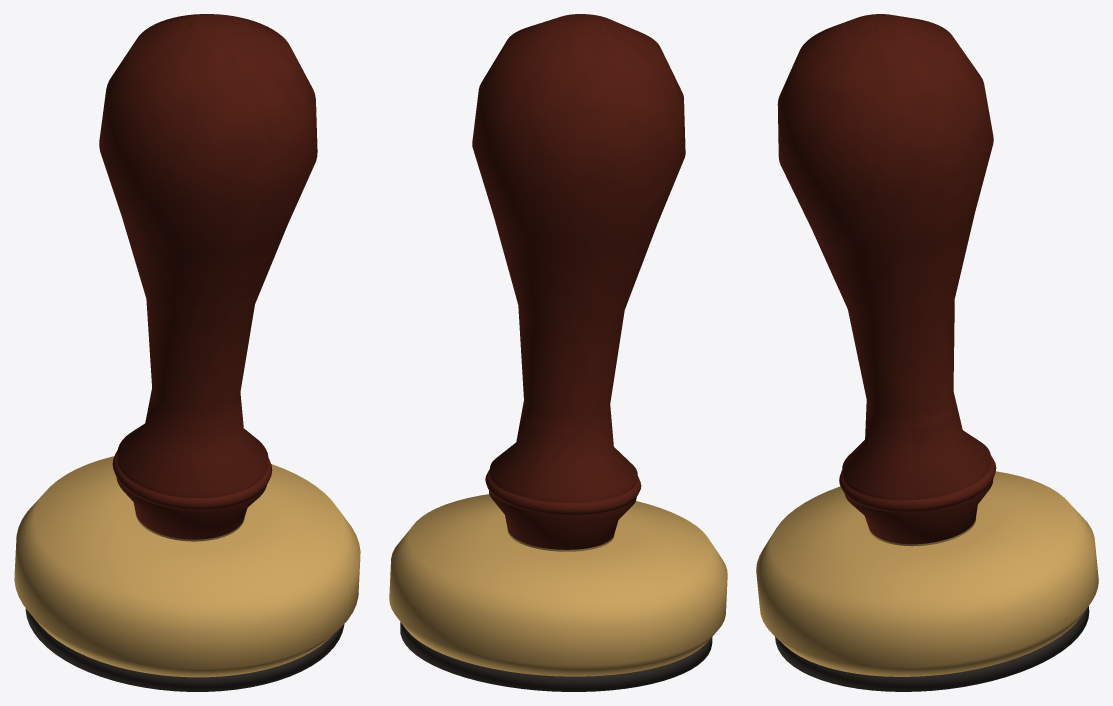
The model's file is municipality_stamp-default.glb.
3 renders of one model, left to right at view 1: azimuth 30°, elevation 25°; view 2: azimuth 150°, elevation 25°; view 3: azimuth 270°, elevation 25°, orthographic. The views are drawn at different scales.
Parts seen in each view (by area): view 1: municipality_stamp-default__Polished_red_wooden_stamp_handle, municipality_stamp-default__Brass_aged_warm_metal, Stamp rubber printing pad; view 2: municipality_stamp-default__Polished_red_wooden_stamp_handle, municipality_stamp-default__Brass_aged_warm_metal, Stamp rubber printing pad; view 3: municipality_stamp-default__Polished_red_wooden_stamp_handle, municipality_stamp-default__Brass_aged_warm_metal, Stamp rubber printing pad.
Part boxes in pixels (x1,y1,x2,y2): municipality_stamp-default__Polished_red_wooden_stamp_handle: (99,14,317,539); municipality_stamp-default__Brass_aged_warm_metal: (14,456,360,677); Stamp rubber printing pad: (25,608,344,691); municipality_stamp-default__Polished_red_wooden_stamp_handle: (472,14,685,549); municipality_stamp-default__Brass_aged_warm_metal: (389,494,727,676); Stamp rubber printing pad: (400,622,712,691); municipality_stamp-default__Polished_red_wooden_stamp_handle: (777,14,996,544); municipality_stamp-default__Brass_aged_warm_metal: (756,471,1098,676); Stamp rubber printing pad: (775,606,1089,691).
Size of the model in its own units: 0.082 by 0.1627 by 0.0826.
4 materials, 1 textured.
